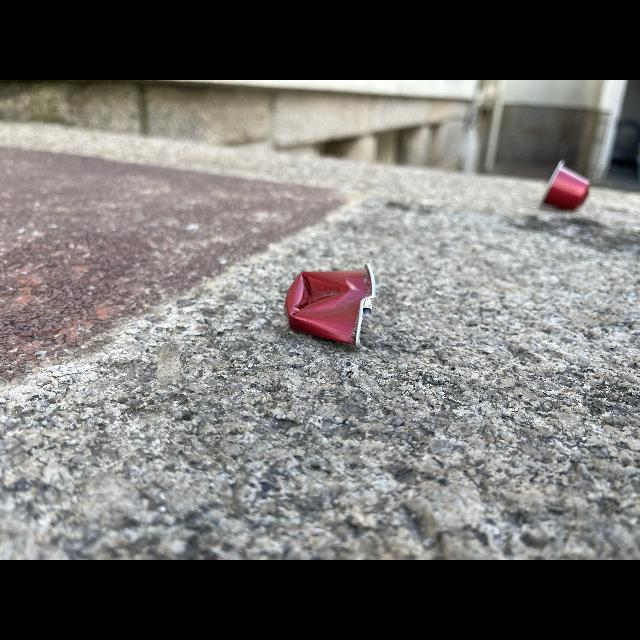damaged_capsule: (280, 253, 386, 355)
